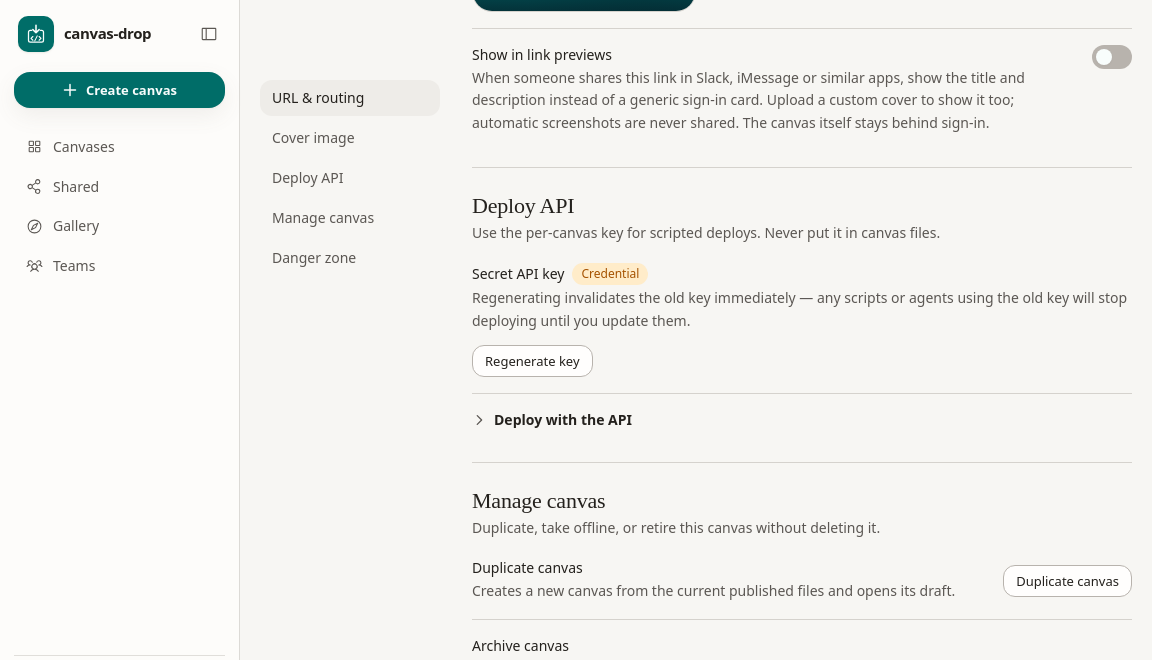
Test: settings route › regenerate-key reveals the new key once
(page scrolled)
Click the button "Regenerate key" at point(532, 361), box [472,345,593,377]
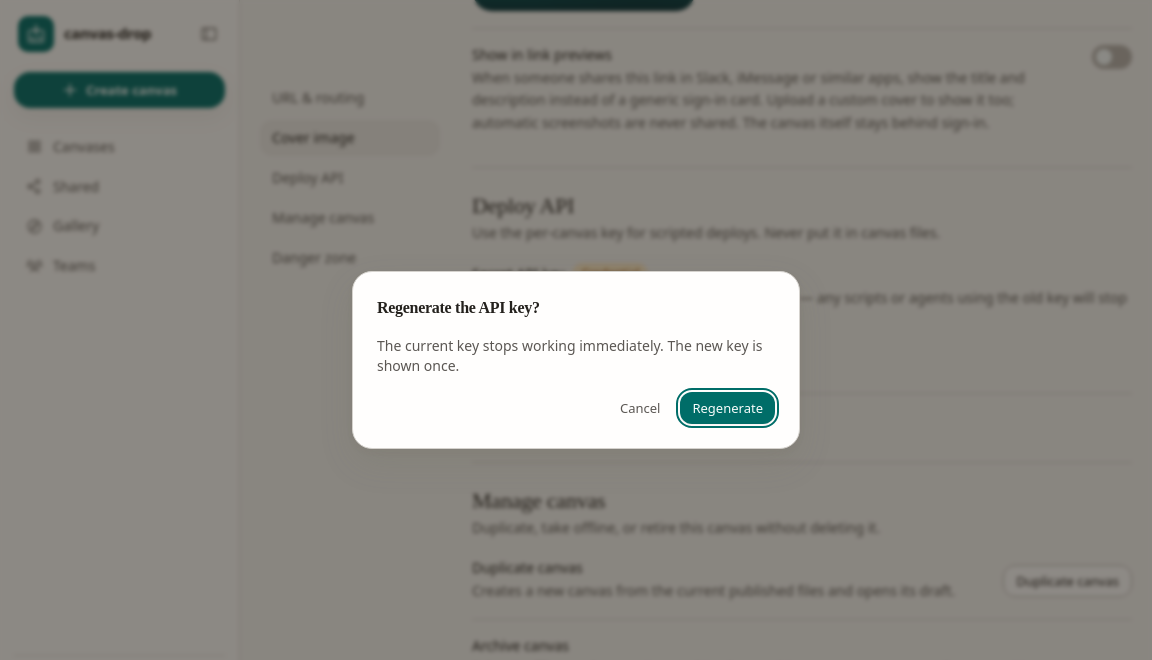
Click the button "Regenerate" at point(728, 408), box [680,392,775,424]
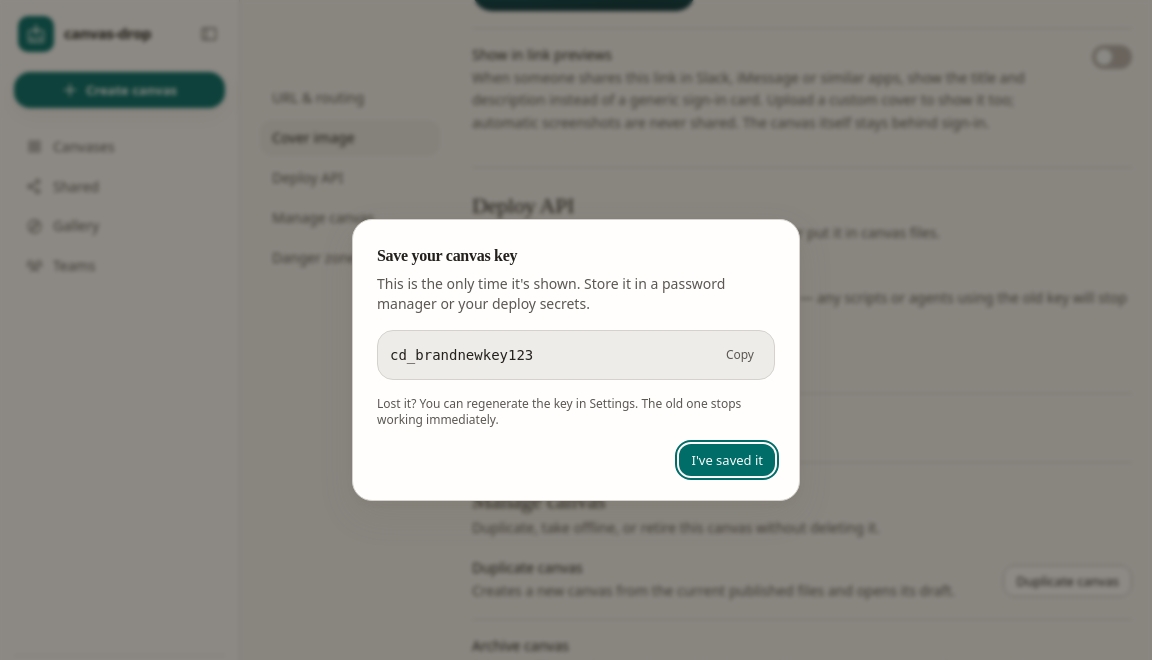
Now the text "cd_brandnewkey123" is shown, box [390,347,533,363]
Now the heading "Save your canvas key" is shown, box [377,247,517,264]
